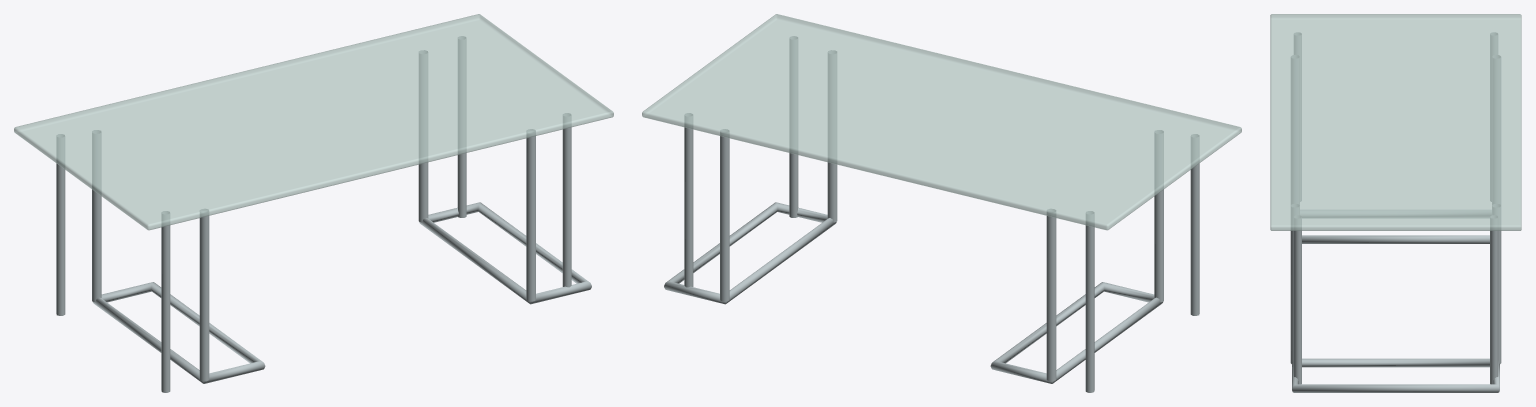
File: wh-glass-top-dining-table.glb
The picture shows the model from 3 angles, left to right: view 1: azimuth 30°, elevation 25°; view 2: azimuth 150°, elevation 25°; view 3: azimuth 270°, elevation 25°; orthographic projection. The views are drawn at different scales.
Parts seen in each view (by area): view 1: Table top.001, Table leg.004; view 2: Table top.001, Table leg.004; view 3: Table top.001, Table leg.004.
Boxes of the visible parts, x1,y1,x2,y2 form: Table top.001: [14, 14, 613, 230]; Table leg.004: [56, 36, 591, 392]; Table top.001: [642, 14, 1241, 230]; Table leg.004: [664, 36, 1199, 392]; Table top.001: [1270, 14, 1521, 230]; Table leg.004: [1290, 32, 1501, 392].
Bounding box in the file's own units: 2 × 0.76 × 1.
